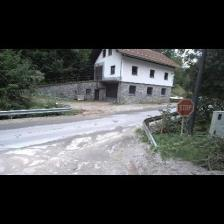Stop: (176, 99, 194, 116)
